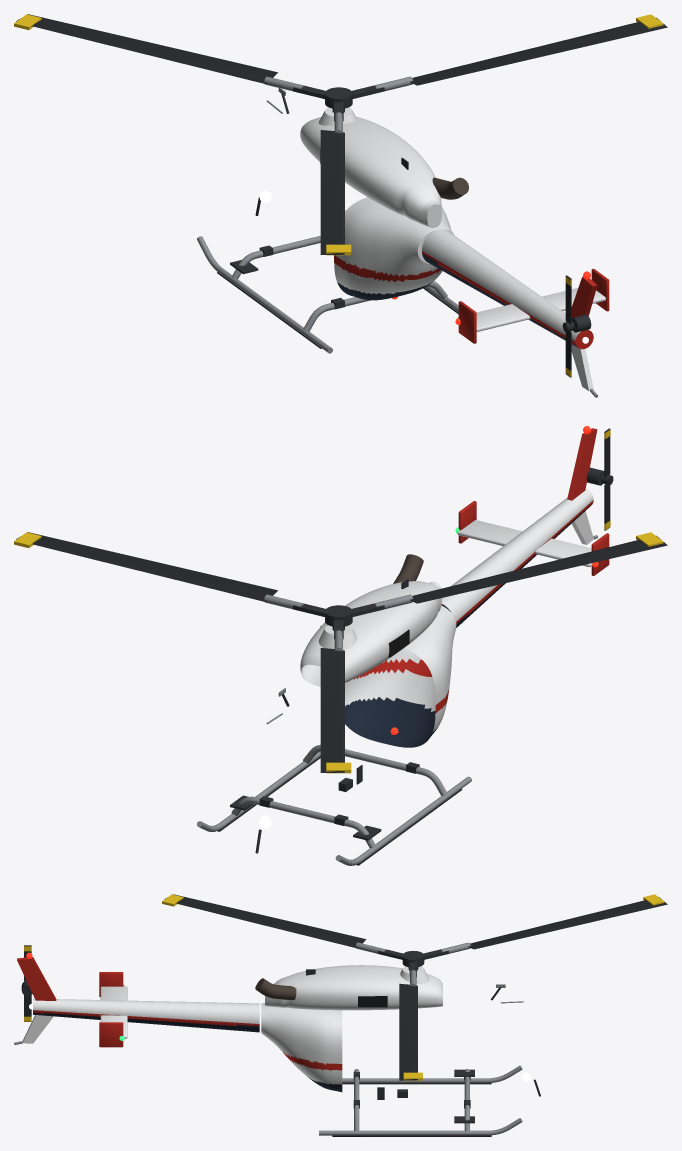
The model's file is heli_ext.glb.
3 renders of one model, top to bottom at view 1: azimuth 30°, elevation 25°; view 2: azimuth 150°, elevation 25°; view 3: azimuth 270°, elevation 25°, orthographic. The views are drawn at different scales.
Parts seen in each view (by area): view 1: ext_body, blades, main_rotor_hub, tail_rotor_mesh; view 2: ext_body, blades, main_rotor_hub, tail_rotor_mesh; view 3: ext_body, blades, main_rotor_hub.
Boxes of the visible parts, x1,y1,x2,y2 form: ext_body: (197,88,609,397); blades: (14,14,667,255); main_rotor_hub: (264,76,412,133); tail_rotor_mesh: (562,275,574,377); ext_body: (197,426,609,865); blades: (14,532,667,773); main_rotor_hub: (264,594,412,651); tail_rotor_mesh: (601,428,613,530); ext_body: (14,952,540,1136); blades: (162,894,667,1080); main_rotor_hub: (355,942,470,986).
Bounding box in the file's own units: 8.18 × 3.23 × 12.13.
